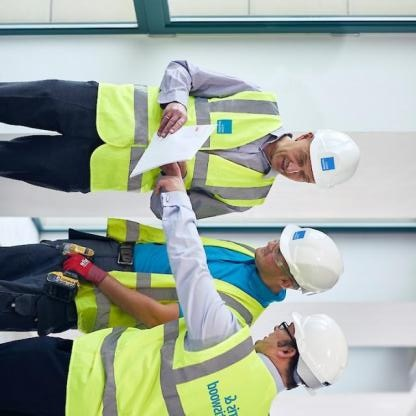vest: (86, 79, 286, 221), (71, 216, 270, 344), (57, 313, 278, 410)
white: (288, 303, 352, 397), (275, 220, 349, 299), (304, 125, 366, 194)
